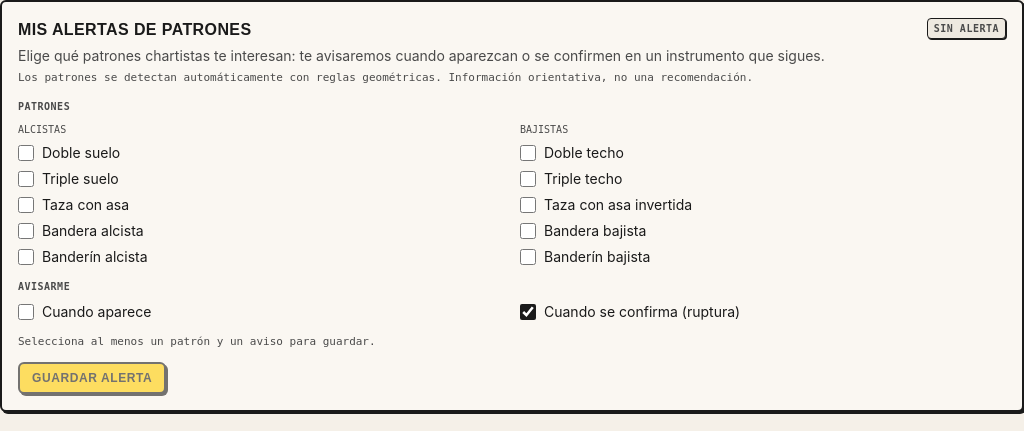
pre-ticks "confirmed", disables save until a type and an event are chosen, then creates the alert
Check: the heading "Mis alertas de patrones" is shown, box x1=18 y1=21 x2=252 y2=38
Check: the text "Sin alerta" is shown, box x1=927 y1=18 x2=1006 y2=39
What coordinates should you click on to do the following:
click the checkbox labelled "Doble suelo"
I would click on:
 (26, 152)
Its box is x1=18 y1=144 x2=34 y2=160.
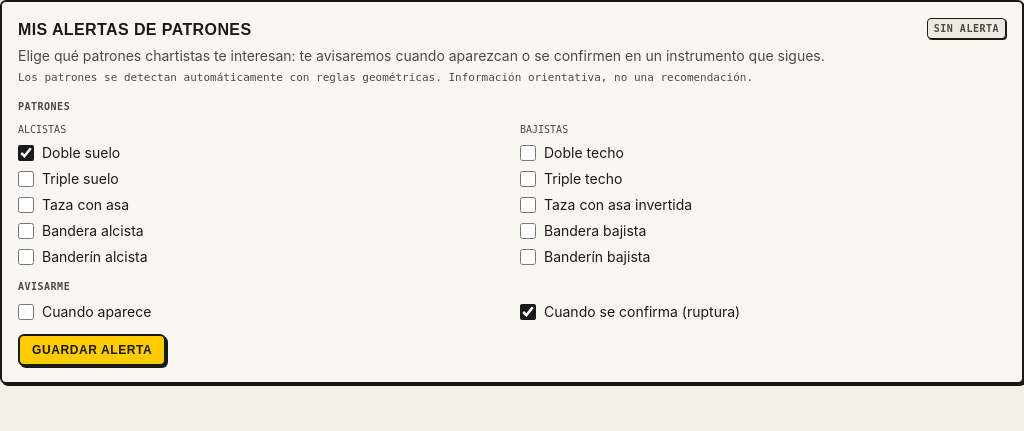
Check: the button "Guardar alerta" is enabled, box x1=18 y1=334 x2=166 y2=366
What coordinates should you click on to do the following:
click the checkbox labelled "Cuando se confirma (ruptura)"
I would click on:
 (528, 312)
Its box is x1=520 y1=304 x2=536 y2=320.
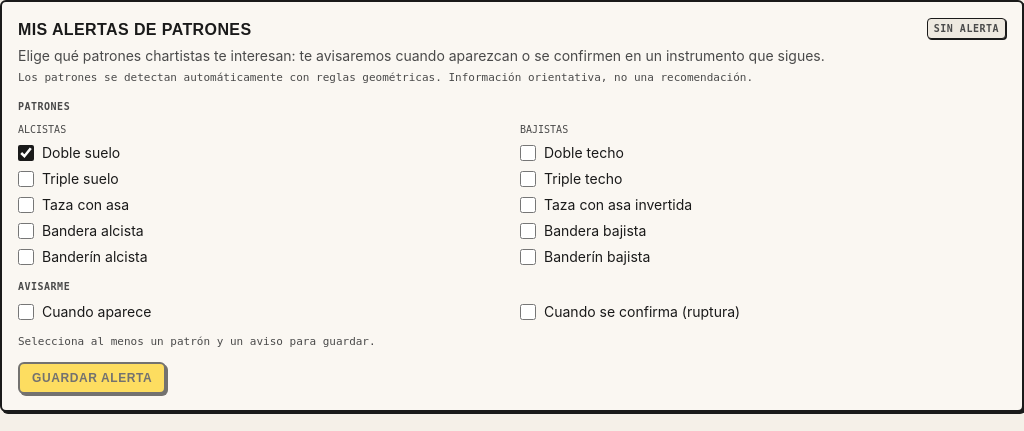
Check: the button "Guardar alerta" is disabled, box x1=18 y1=362 x2=166 y2=394
What coordinates should you click on to do the following:
click the checkbox labelled "Cuando se confirma (ruptura)"
I would click on:
 (528, 312)
Its box is x1=520 y1=304 x2=536 y2=320.
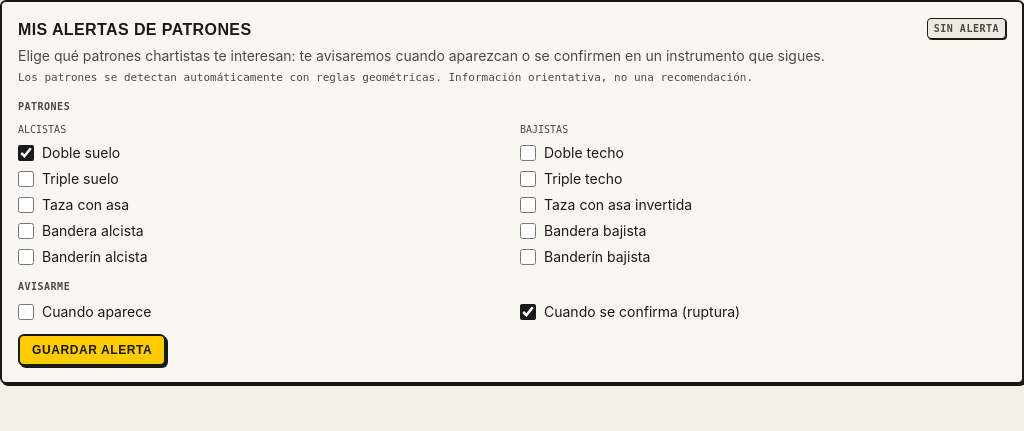
What coordinates should you click on to do the following:
click the checkbox labelled "Bandera alcista"
I would click on:
 (26, 230)
Its box is x1=18 y1=222 x2=34 y2=238.
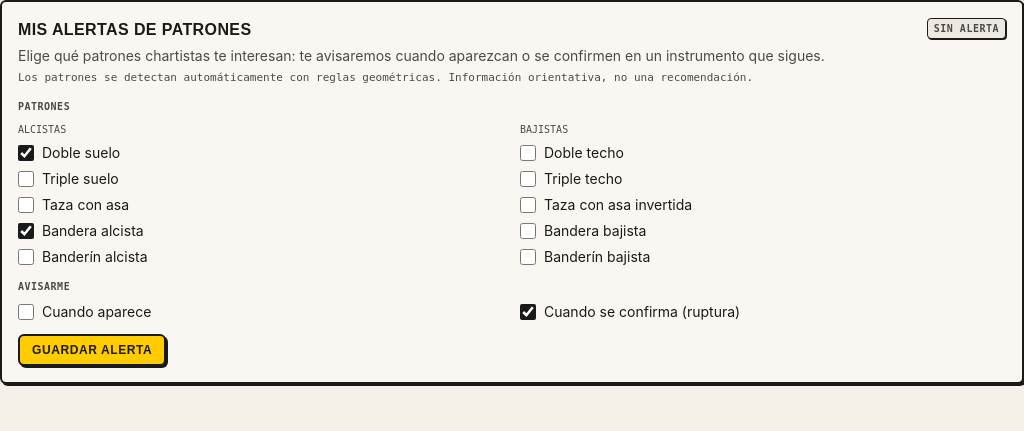
What coordinates should you click on to do the following:
click the button "Guardar alerta"
I would click on:
 (92, 350)
Its box is x1=18 y1=334 x2=166 y2=366.
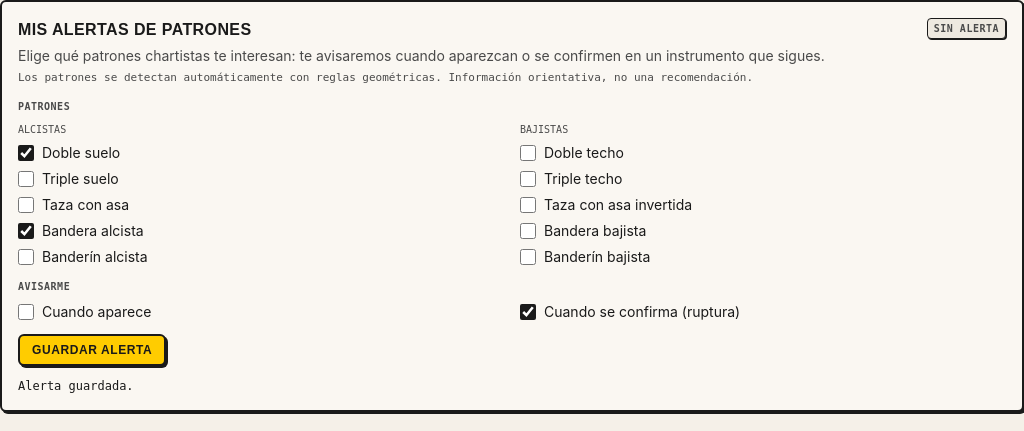
Check: the message reads "Alerta guardada.", box x1=18 y1=378 x2=134 y2=392
